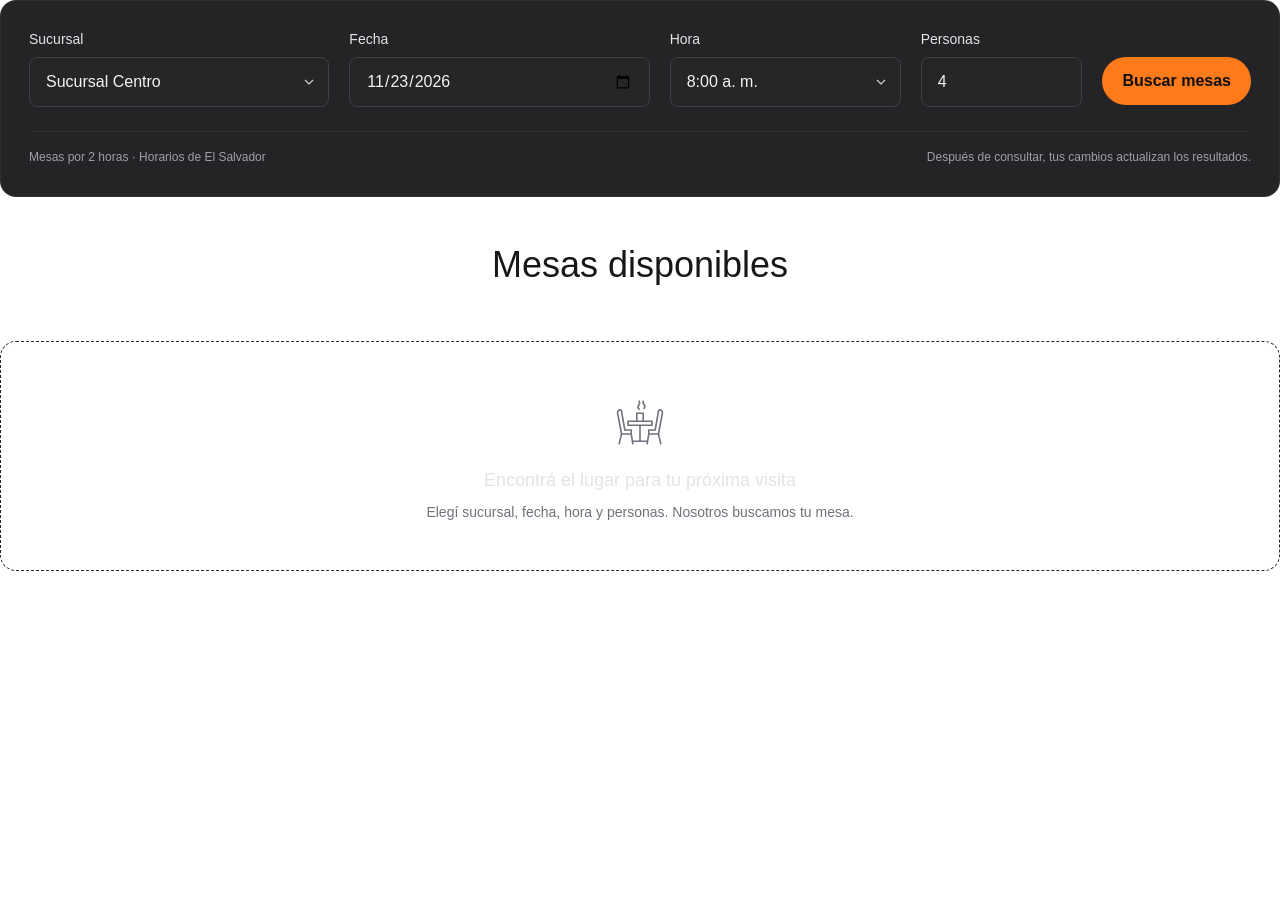
Test: H09. Consultar la disponibilidad de mesas › AC4: sin mesas para los criterios muestra el mensaje
What coordinates should you click on to do the following:
click the button "Buscar mesas"
I would click on:
 (1177, 81)
Its box is left=1102, top=57, right=1251, bottom=105.
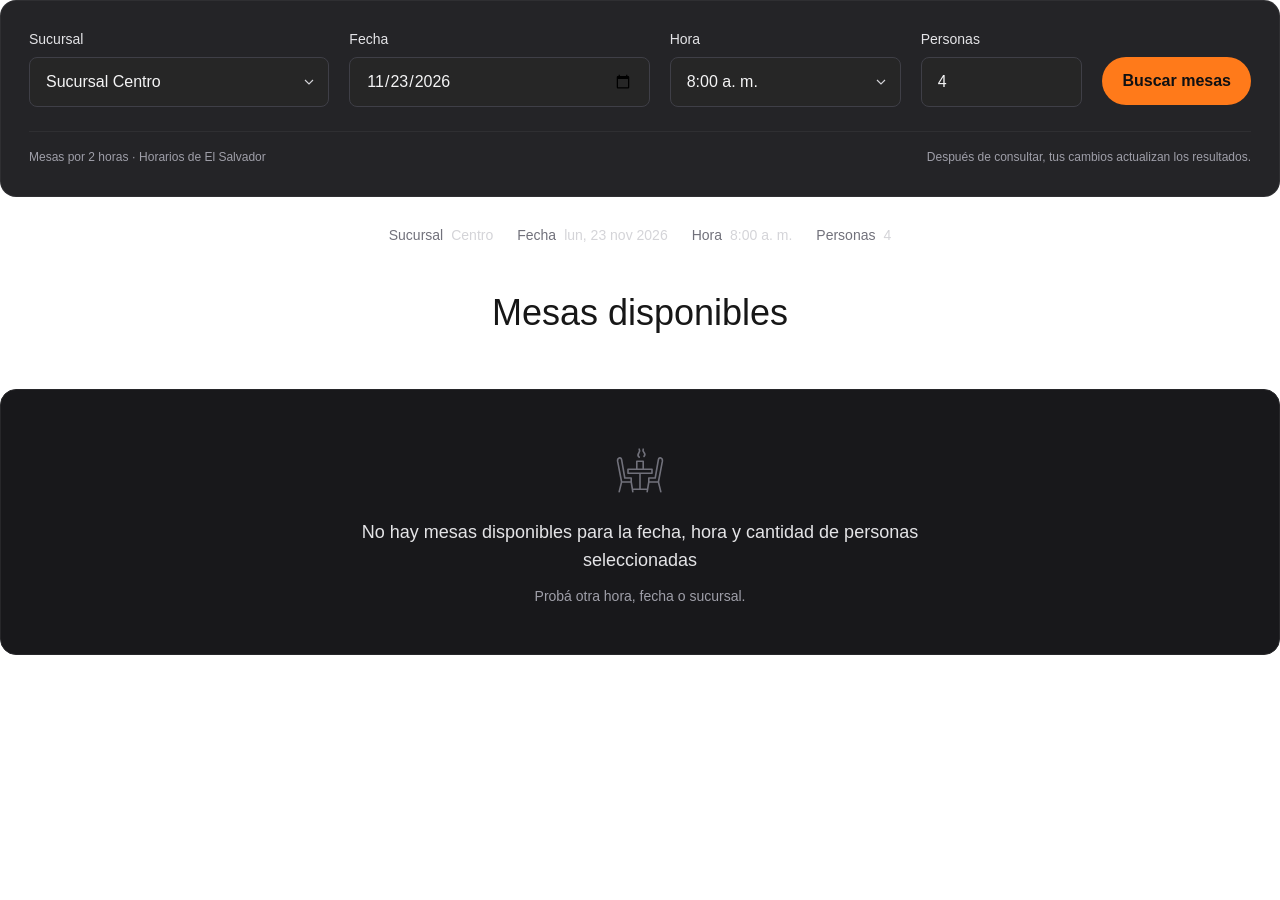
expect the text "No hay mesas disponibles para la fecha, hora y cantidad de personas seleccionadas" is shown: met, box left=362, top=522, right=918, bottom=570
